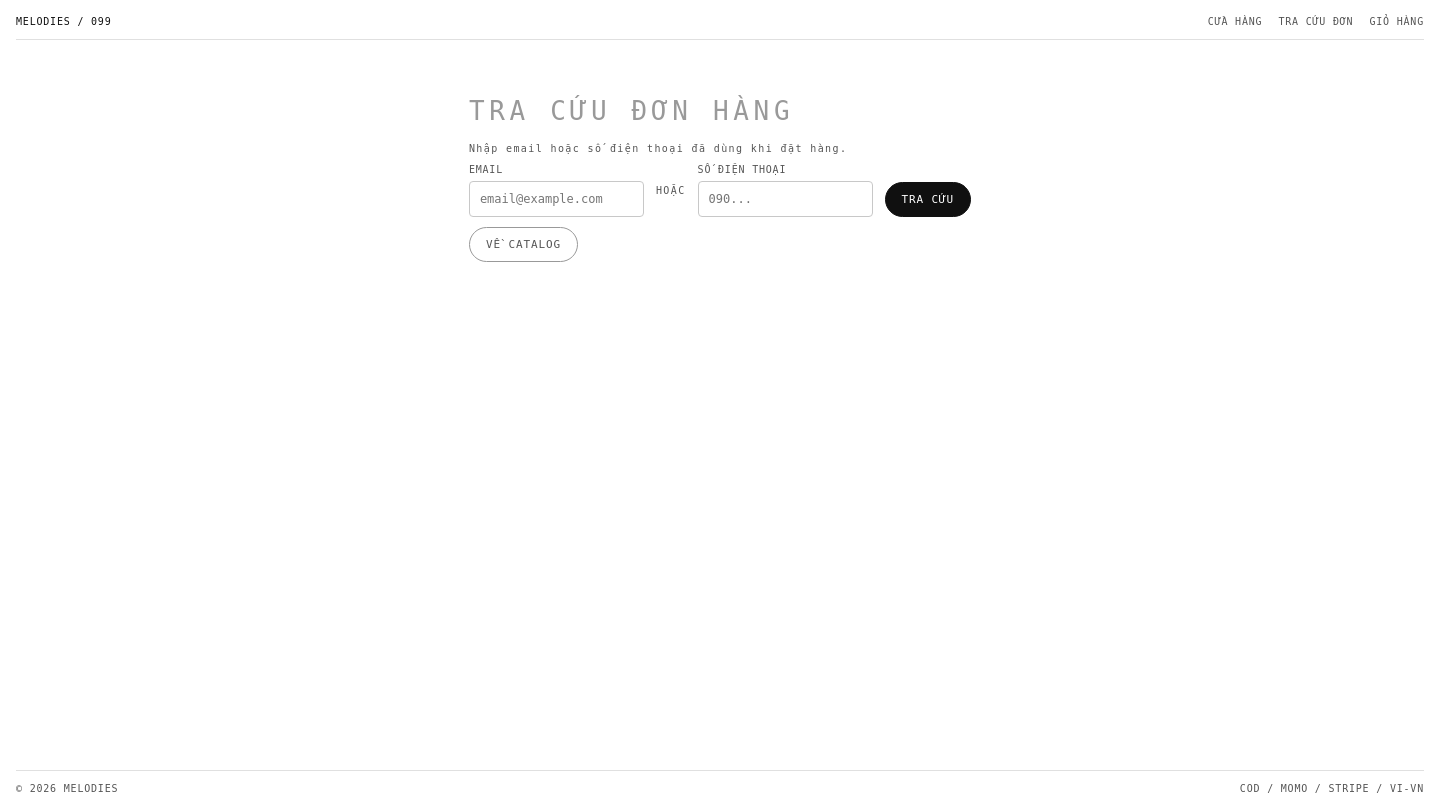
Test case: tracks a guest order with customer details and order items
This screenshot has width=1440, height=810.
Type "guest@example.com" into the field named "email".
click(556, 199); type("guest@example.com")  # box [469,181,644,217]
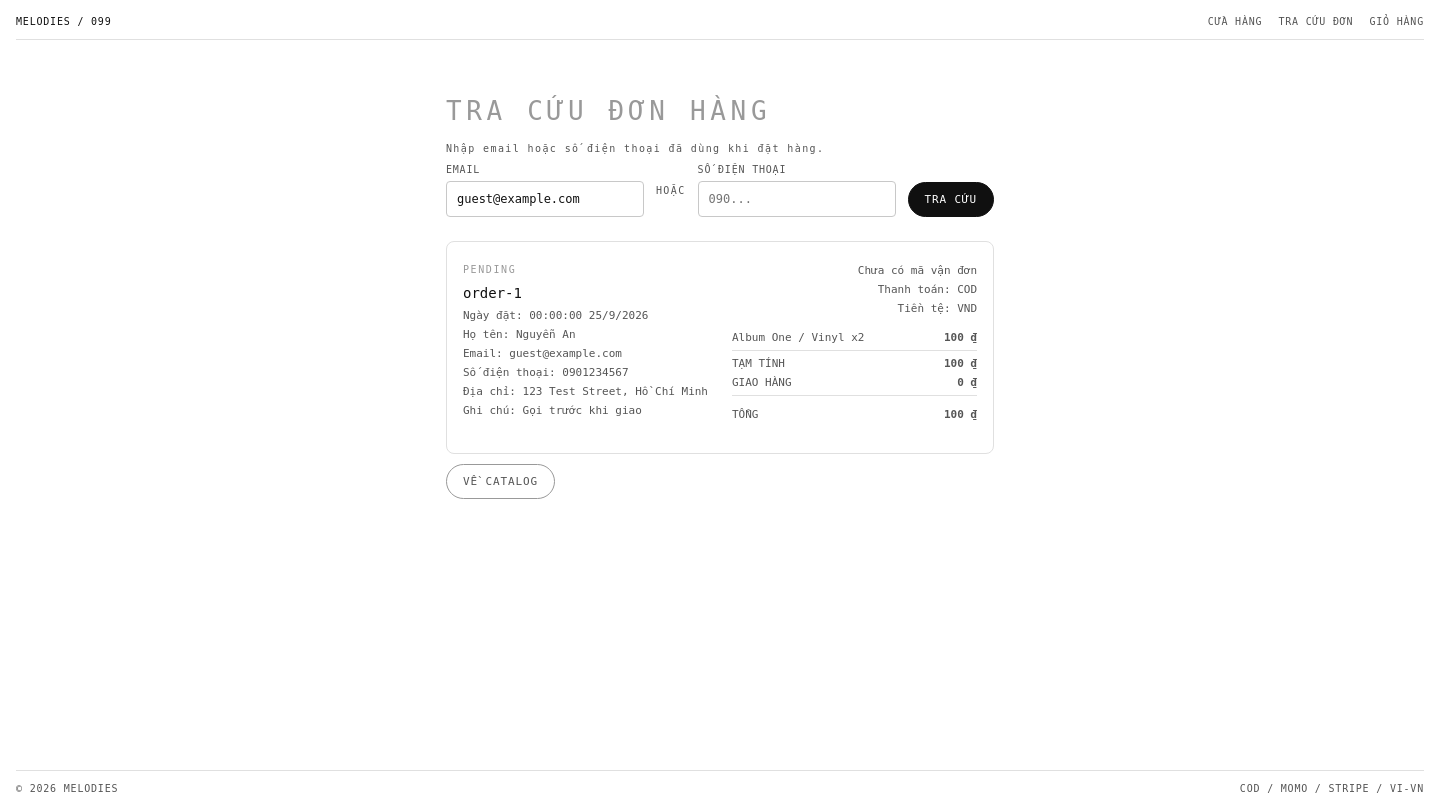
expect the text "order-1" is shown: met, box [463,285,522,301]
expect the text "Nguyễn An" is shown: met, box [516,328,576,341]
expect the text "guest@example.com" is shown: met, box [509,347,622,360]
